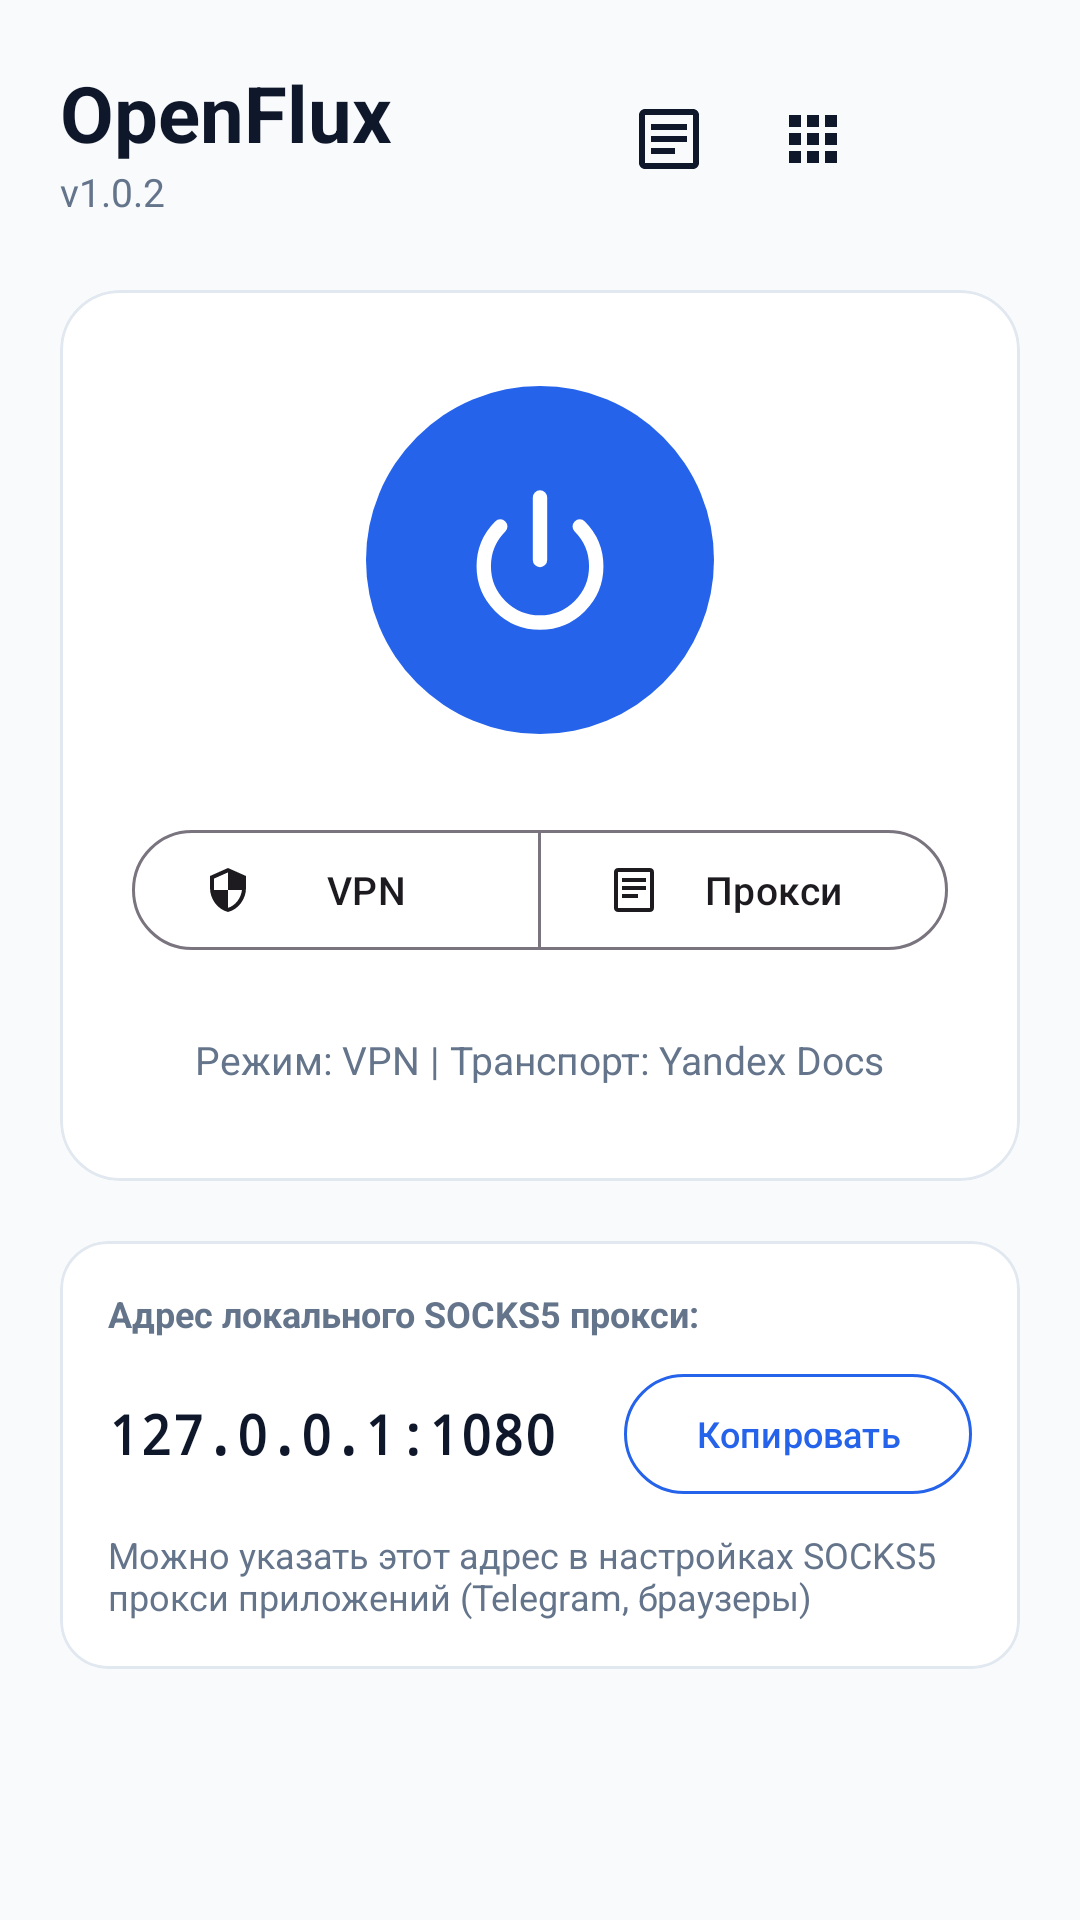

Point at icon controls on the screen. Image size 1080px x 1920px, points as point (x, y).
power: point (540, 560)
Журнал событий: point (669, 139)
Раздельное туннелирование: point (813, 139)
